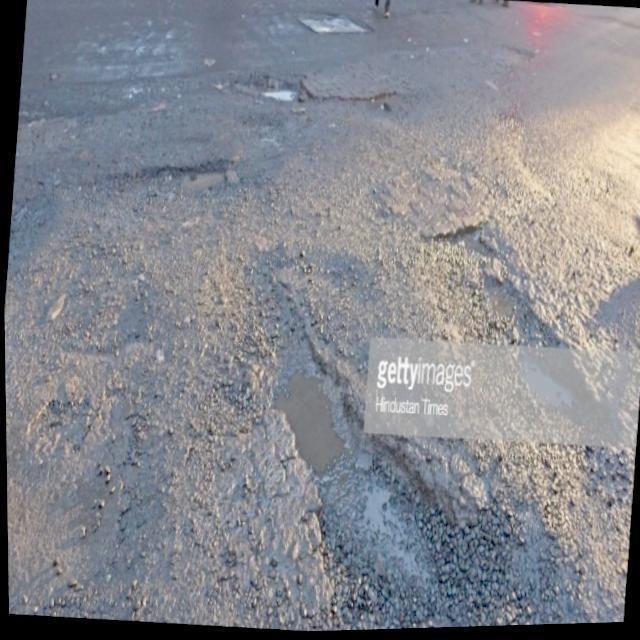Pothole: (260, 283, 613, 633), (457, 233, 640, 456), (110, 164, 229, 205), (234, 74, 312, 106)
